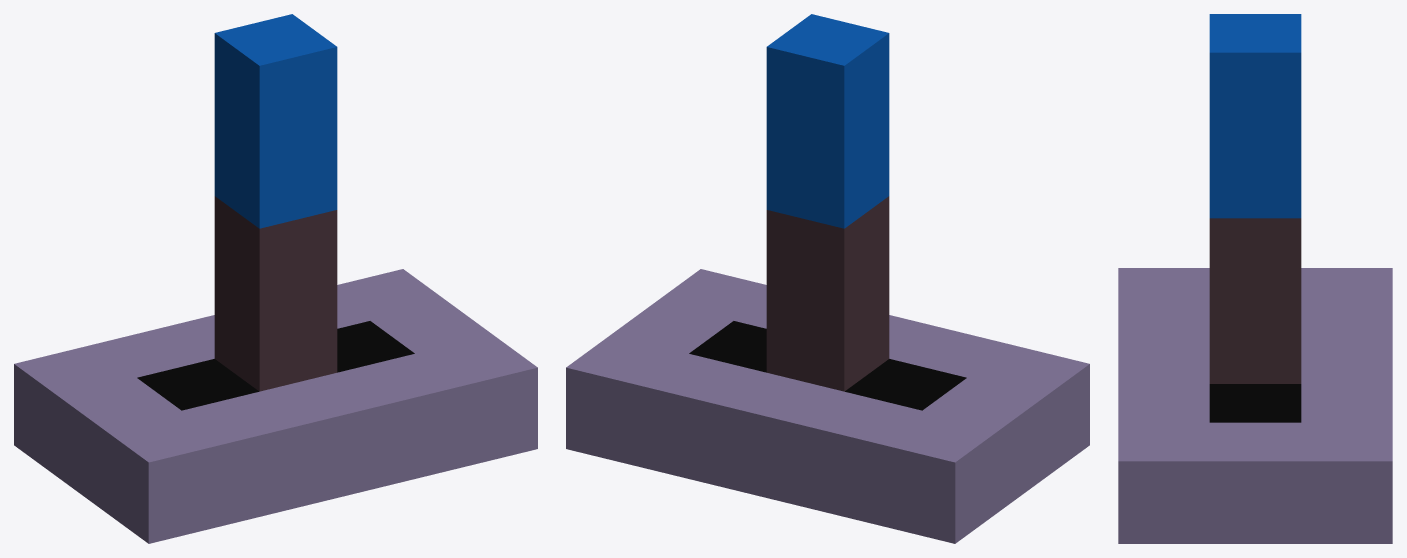
The model's file is lever_a_b_blue_off.obj.
3 renders of one model, left to right at view 1: azimuth 30°, elevation 25°; view 2: azimuth 150°, elevation 25°; view 3: azimuth 270°, elevation 25°, orthographic.
Size of the model in its own units: 0.5 by 0.5 by 0.3.
1 material, 1 textured.
